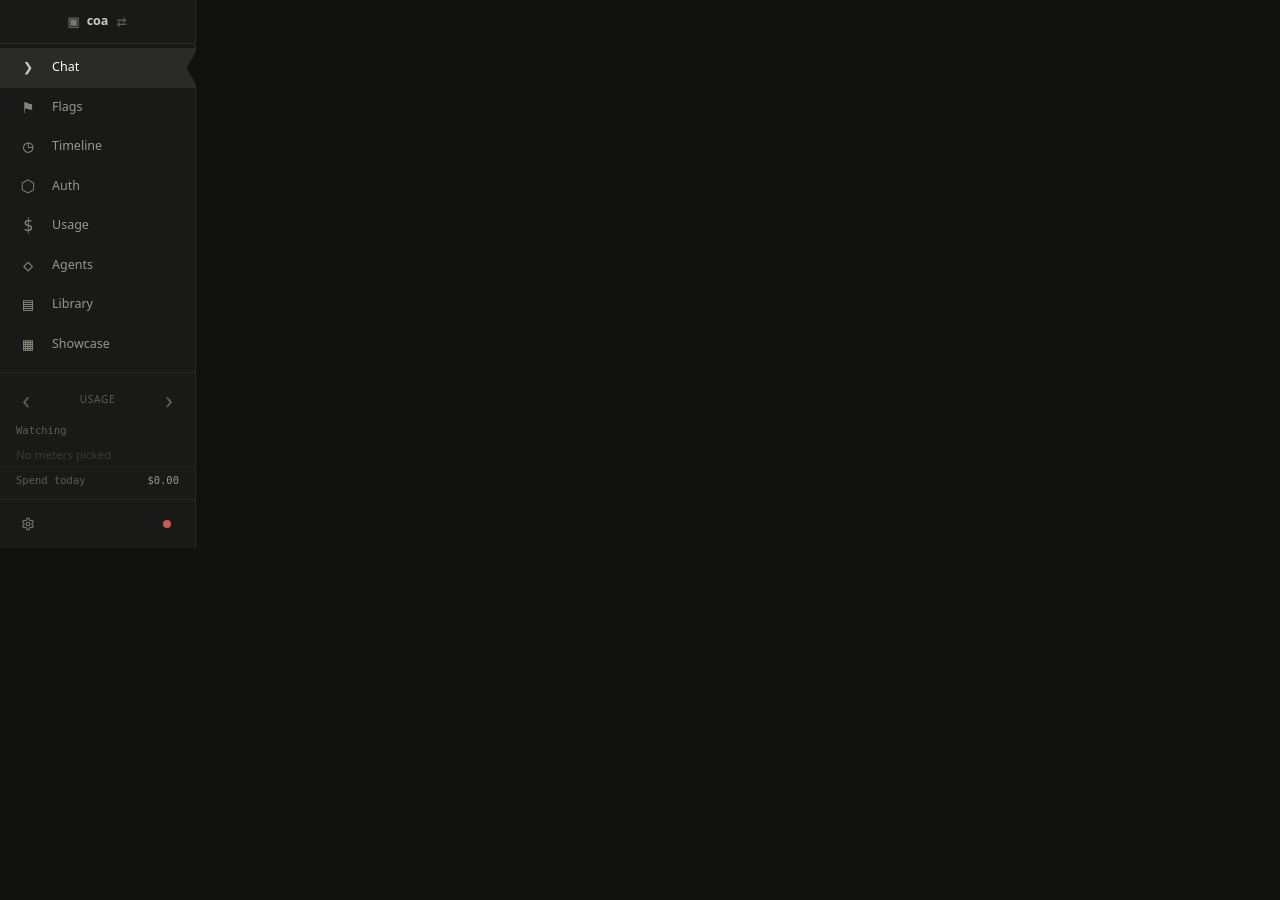
Test: Nav › opens a real project picker rather than a dead "not available" control
Click the button "▣ coa ⇄": (98, 22) [54,0,141,43]
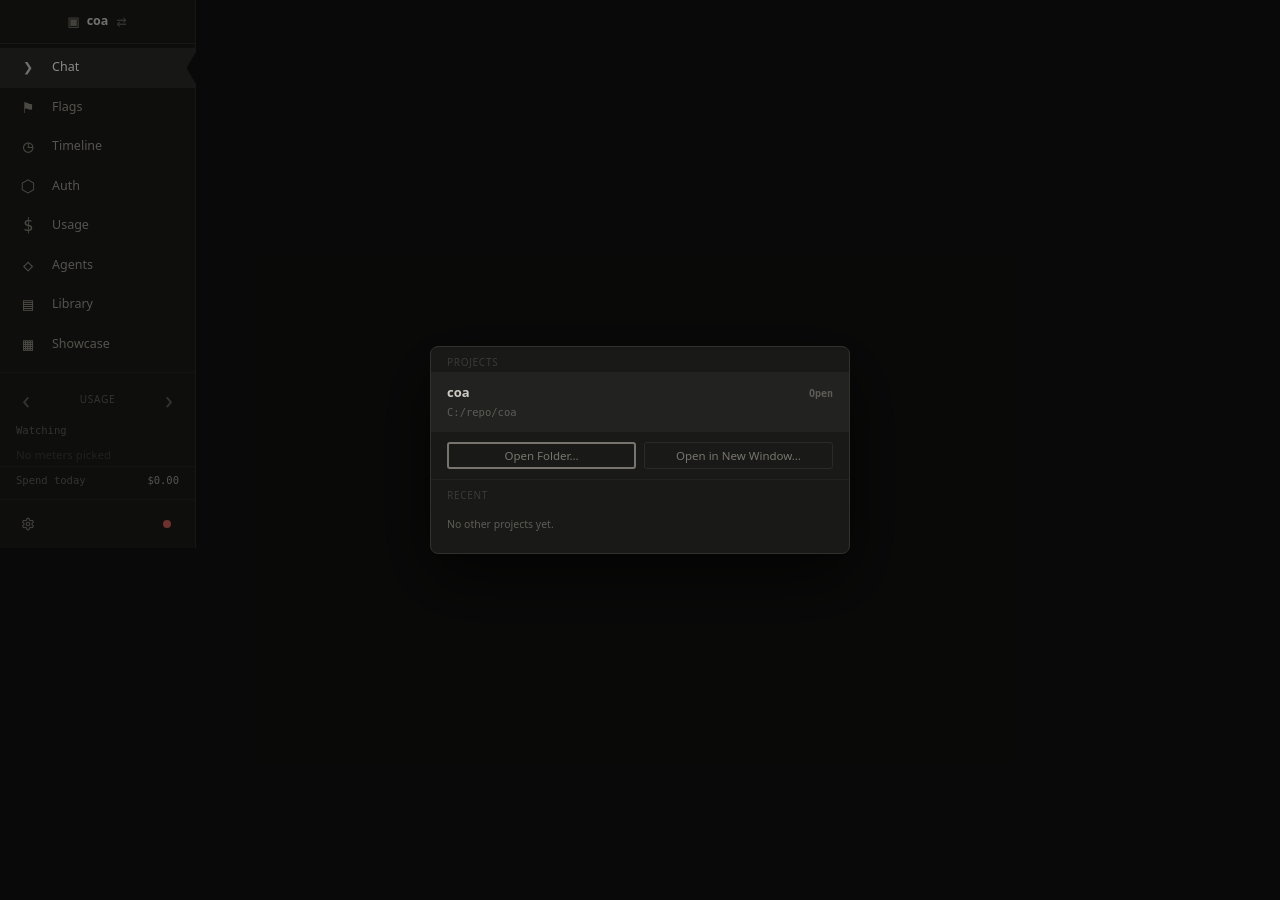
Expected: the button "Open Folder…" is shown, [447,442,636,469]
Expected: the button "Open in New Window…" is shown, [644,442,833,469]
